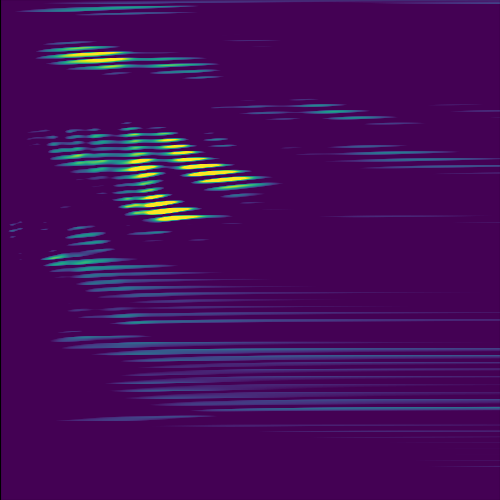semblance: (141, 191, 217, 229), (55, 42, 132, 72), (127, 152, 161, 181), (118, 127, 151, 143)
